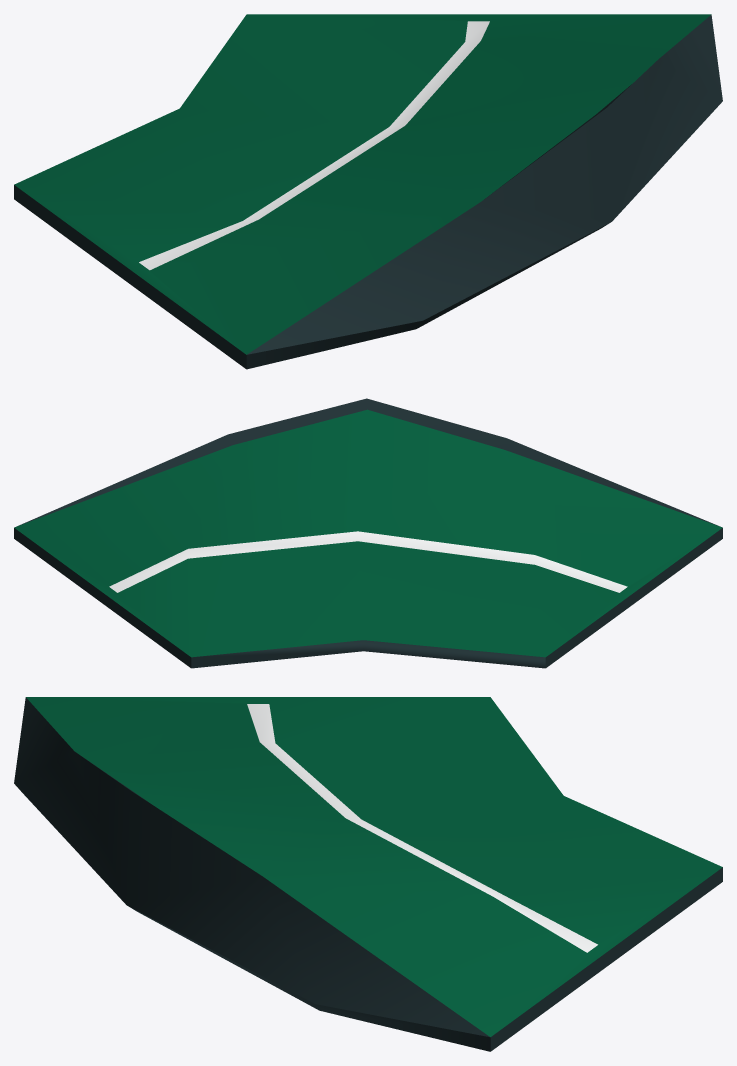
File: left4.fbx
The picture shows the model from 3 angles, top to bottom: view 1: azimuth 30°, elevation 25°; view 2: azimuth 150°, elevation 25°; view 3: azimuth 270°, elevation 25°; orthographic projection. The views are drawn at different scales.
Parts seen in each view (by area): view 1: left4; view 2: left4; view 3: left4.
Boxes of the visible parts, x1,y1,x2,y2 form: left4: (14, 14, 722, 369); left4: (14, 398, 722, 668); left4: (14, 697, 722, 1051).
Bounding box in the file's own units: 50.01 × 8.36 × 44.04.
Materials: 1 (1 with a texture image).
